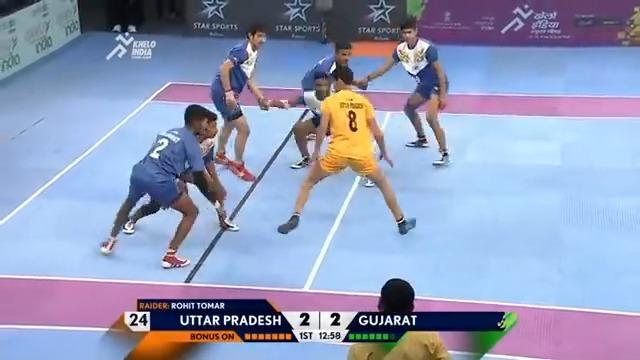Player: (99, 103, 239, 269), (356, 16, 452, 166), (272, 37, 369, 169), (209, 24, 286, 182)
Raider: (277, 65, 416, 236)
referee: (345, 277, 452, 359)
